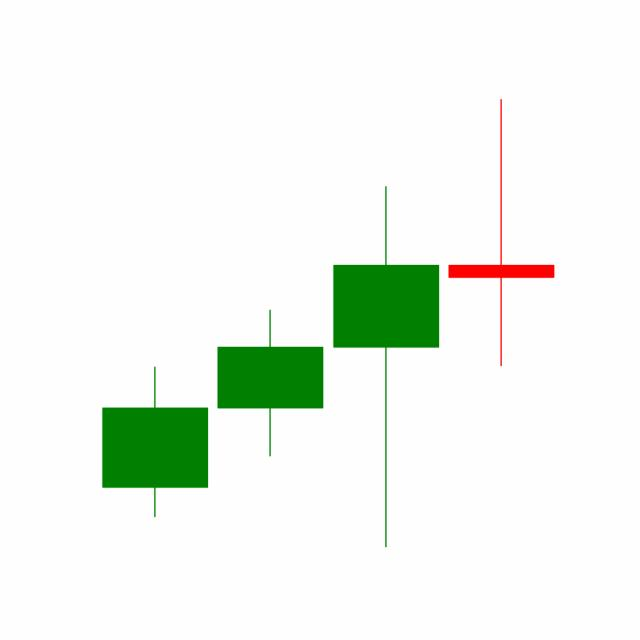Spinning Top: (443, 95, 559, 369)
